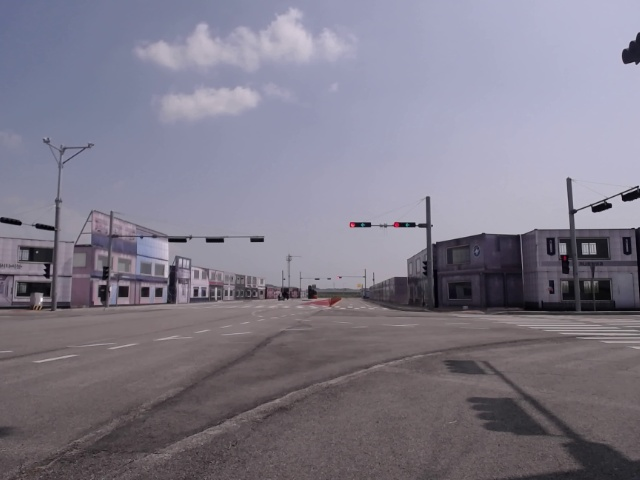left_green_4: (394, 222, 416, 227), (350, 223, 370, 227)
